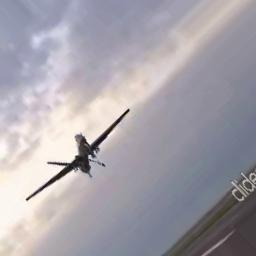wingloong: (27, 108, 136, 206)
